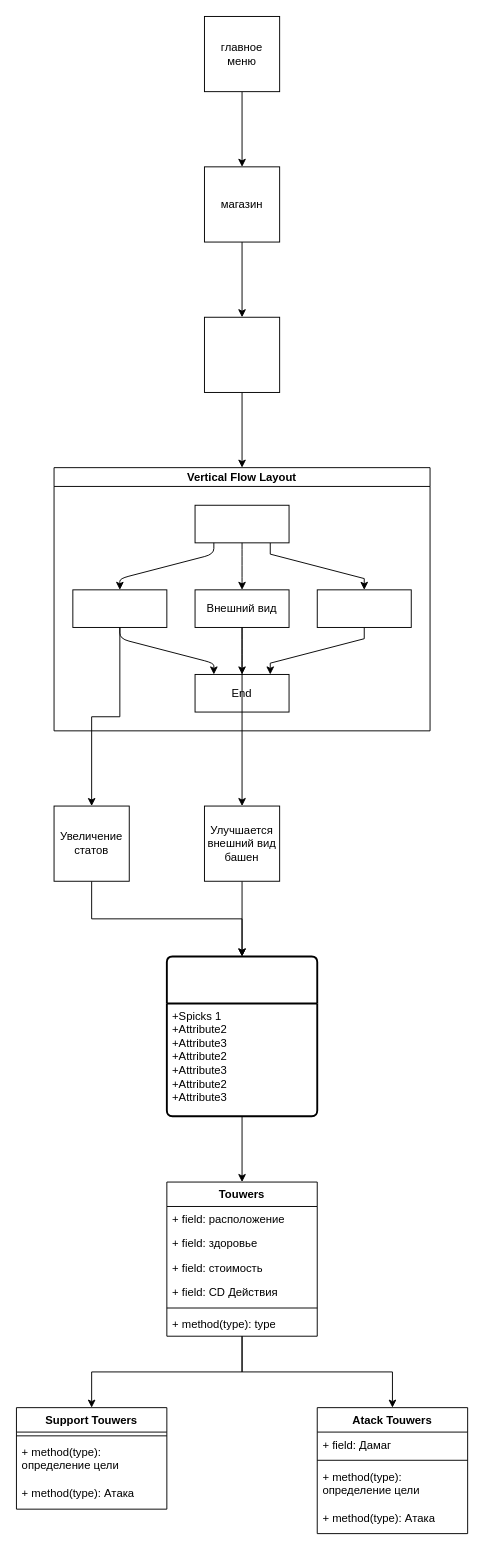
The diagram is 484 pixels wide and 1553 high, and some of its shapes have lost their labels. Each missing label, with the box of its shape:
Entity: (165, 955, 318, 1117)
все башни: (204, 316, 280, 392)
Выбор башни: (194, 504, 289, 543)
Расположение: (316, 589, 411, 627)
Улучшение: (72, 589, 167, 627)
